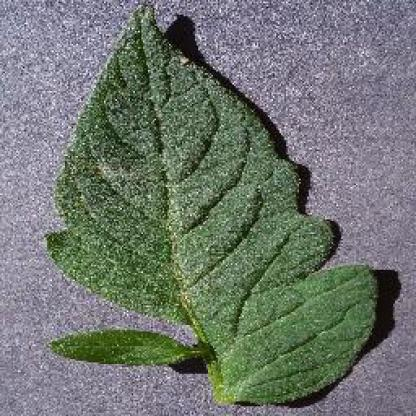good leaf: (69, 18, 375, 403)
